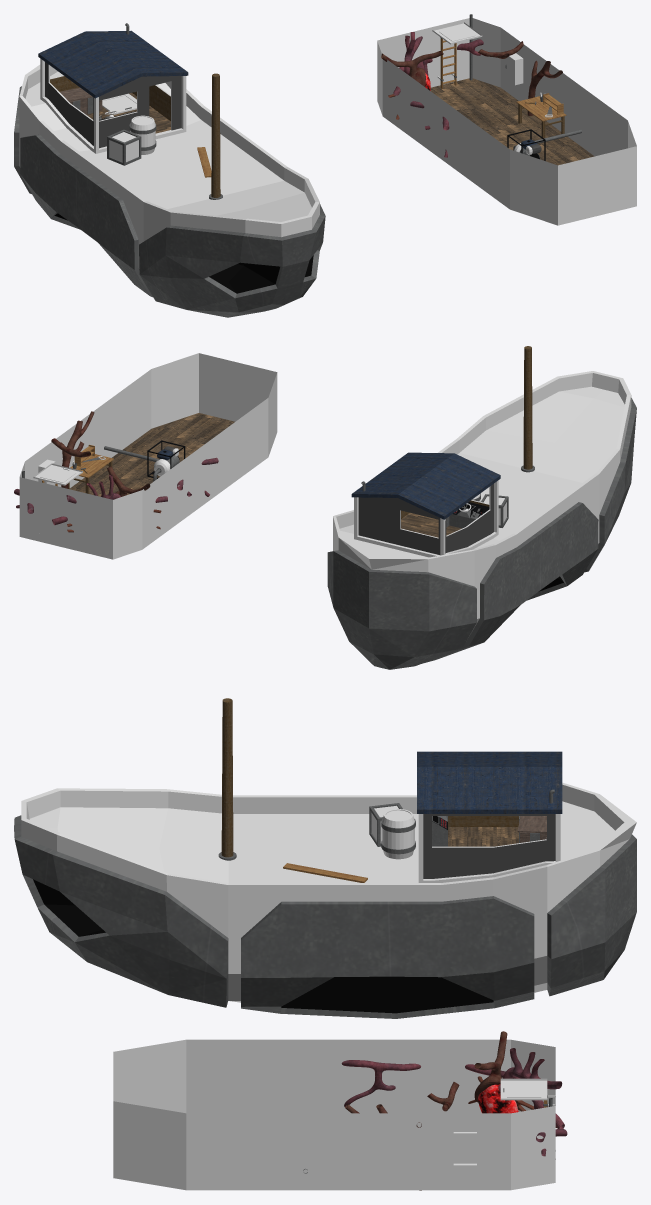
File: ShipMonster_v2.1.fbx
3 renders of one model, top to bottom at view 1: azimuth 30°, elevation 25°; view 2: azimuth 150°, elevation 25°; view 3: azimuth 270°, elevation 25°, orthographic. The views are drawn at different scales.
Parts seen in each view (by area): view 1: Pomieszczenie, StatekG, Arrmor Dziób, StatekG Domek, Arrmor Nogi, Maszt, Skrzynia_Dodatkowa, Beczka, Klapa.001, Serce_1, Serce_2, Skrzynia (+4 smaller); view 2: Pomieszczenie, StatekG, Arrmor Rufa, StatekG Domek, Arrmor Nogi, Arrmor Dziób, Maszt, Klapa.001, Pulpit kontrolny, Serce_1, Żyła1, Stół_Blat; view 3: Pomieszczenie, StatekG, Arrmor Nogi, Arrmor Dziób, StatekG Domek, Arrmor Rufa, Serce_1, Maszt, Beczka, Klapa.001, Żyła3, Serce_2 (+1 smaller).
Part boxes in pixels (x1,y1,x2,y2): Pomieszczenie: (377, 18, 636, 225); StatekG: (19, 64, 319, 293); Arrmor Dziób: (139, 204, 325, 317); StatekG Domek: (38, 30, 188, 153); Arrmor Nogi: (20, 134, 152, 297); Maszt: (209, 73, 222, 199); Skrzynia_Dodatkowa: (107, 129, 141, 165); Beczka: (129, 115, 156, 154); Klapa.001: (432, 22, 482, 44); Serce_1: (393, 32, 432, 95); Serce_2: (381, 51, 443, 86); Skrzynia: (59, 87, 102, 114); Pomieszczenie: (19, 353, 277, 559); StatekG: (333, 371, 631, 637); Arrmor Rufa: (327, 550, 476, 669); StatekG Domek: (351, 452, 500, 557); Arrmor Nogi: (423, 502, 598, 663); Arrmor Dziób: (584, 398, 636, 572); Maszt: (521, 346, 534, 472); Klapa.001: (33, 463, 82, 485); Pulpit kontrolny: (446, 502, 489, 528); Serce_1: (52, 475, 167, 525); Żyła1: (60, 411, 94, 488); Stół_Blat: (70, 454, 113, 478); Pomieszczenie: (113, 1039, 555, 1190); StatekG: (21, 782, 636, 1013); Arrmor Nogi: (241, 896, 534, 1018); Arrmor Dziób: (14, 815, 228, 1007); StatekG Domek: (417, 751, 562, 882); Arrmor Rufa: (547, 834, 636, 996); Serce_1: (465, 1048, 564, 1128); Maszt: (218, 698, 236, 860); Beczka: (381, 809, 415, 859); Klapa.001: (500, 1078, 547, 1100); Żyła3: (341, 1060, 420, 1106); Serce_2: (474, 1031, 507, 1102).
Bounding box in the file's own units: 1656 × 810 × 1467.
